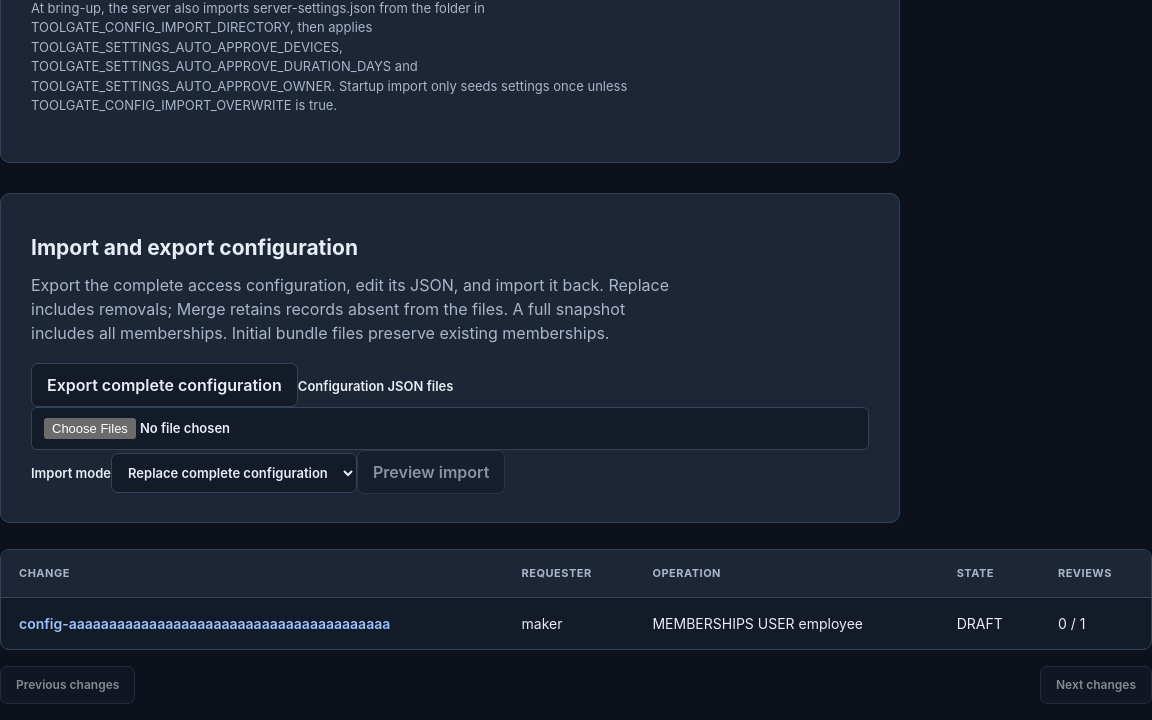
Test: shows exact group impact safely and requires explicit confirmation before submit
(page scrolled)
Click the button "config-aaaaaaaaaaaaaaaaaaaaaaaaaaaaaaaaaaaaaaaa": (205, 623) [19, 613, 390, 634]
(page scrolled)
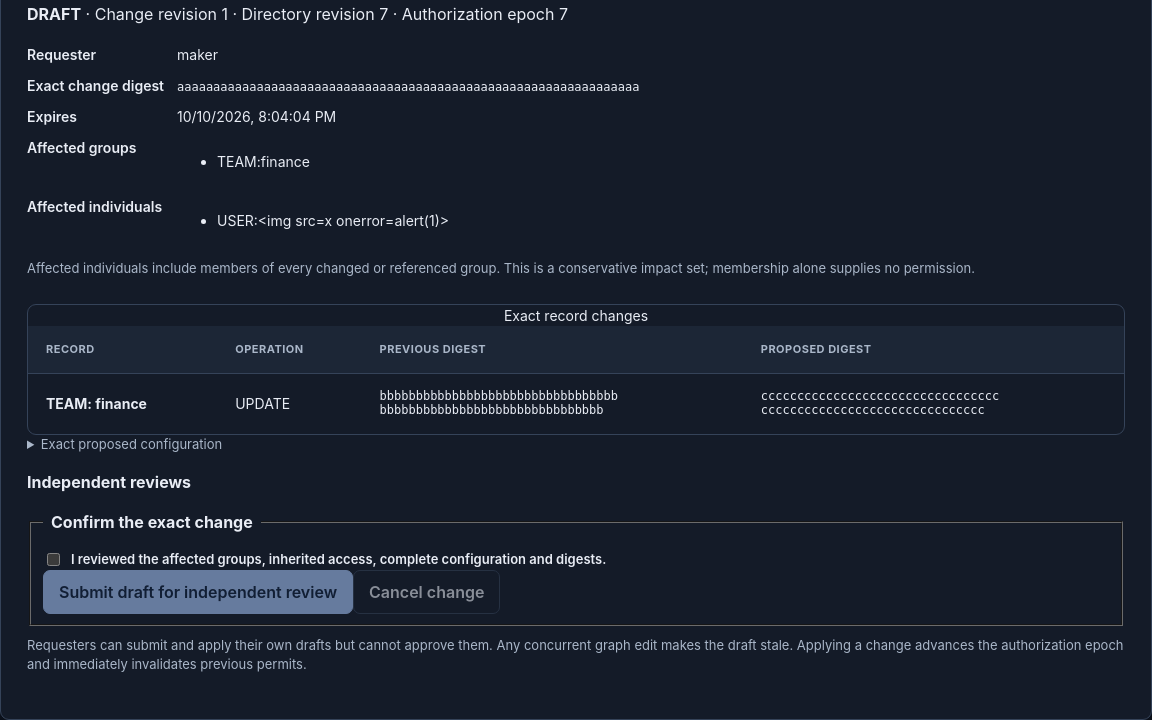
Now the list item "USER:<img src=x onerror=alert(1)>" is shown, box [217, 212, 449, 229]
Now the button "Submit draft for independent review" is disabled, box [43, 570, 353, 614]
